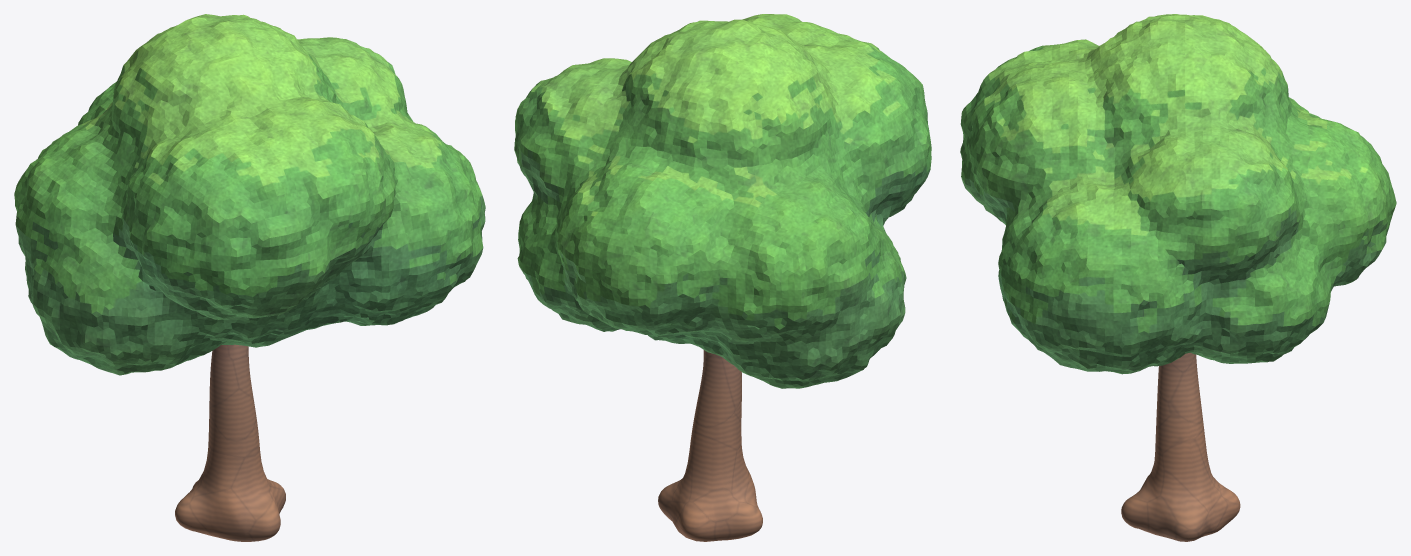
File: WM_TreeRound_B.fbx
3 renders of one model, left to right at view 1: azimuth 30°, elevation 25°; view 2: azimuth 150°, elevation 25°; view 3: azimuth 270°, elevation 25°, orthographic.
Visible parts, largest first — view 1: WM_TreeRound_B_LOD0; view 2: WM_TreeRound_B_LOD0; view 3: WM_TreeRound_B_LOD0.
Boxes of the visible parts, x1=… form: WM_TreeRound_B_LOD0: x1=14, y1=14, x2=485, y2=541; WM_TreeRound_B_LOD0: x1=514, y1=14, x2=931, y2=541; WM_TreeRound_B_LOD0: x1=960, y1=14, x2=1396, y2=541.
Size of what is drawn, in the model's own units: 2.87 by 3.61 by 2.87.
